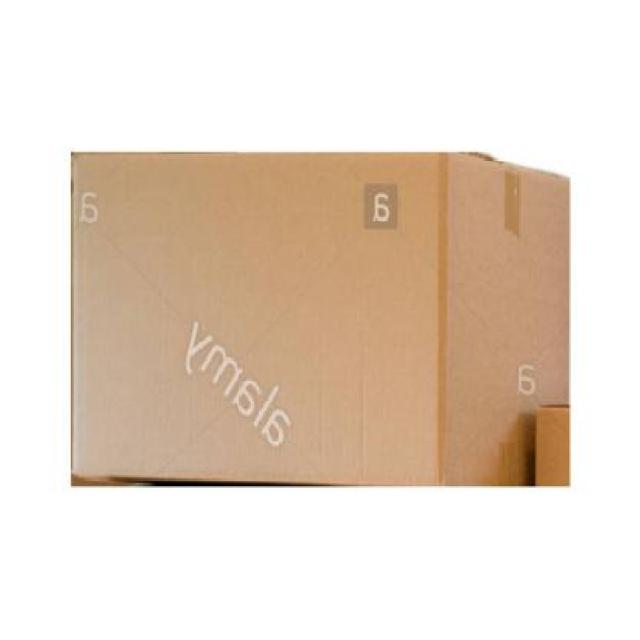cardboxes: (72, 151, 570, 483)
